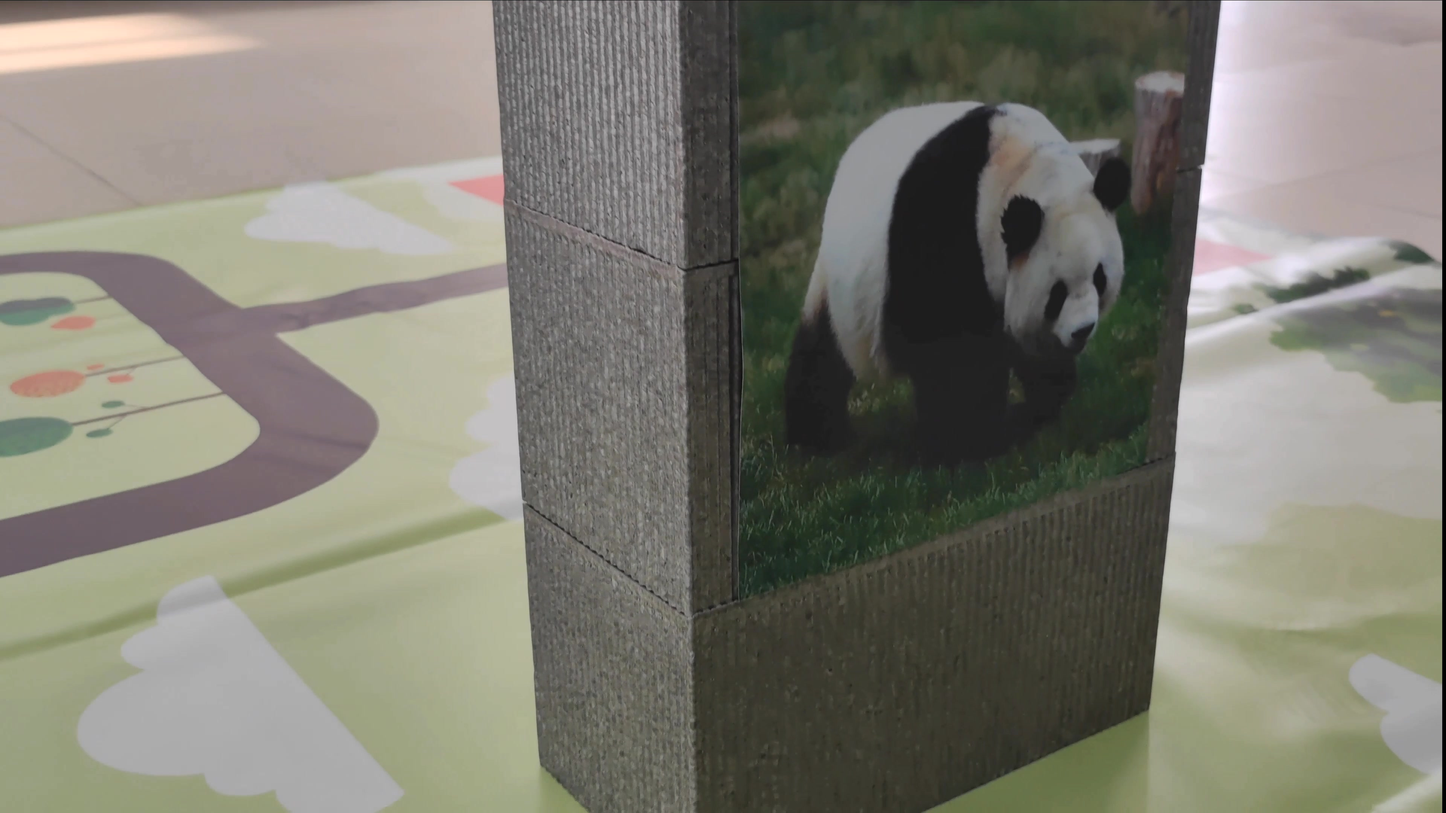panda: (742, 60, 1163, 464)
